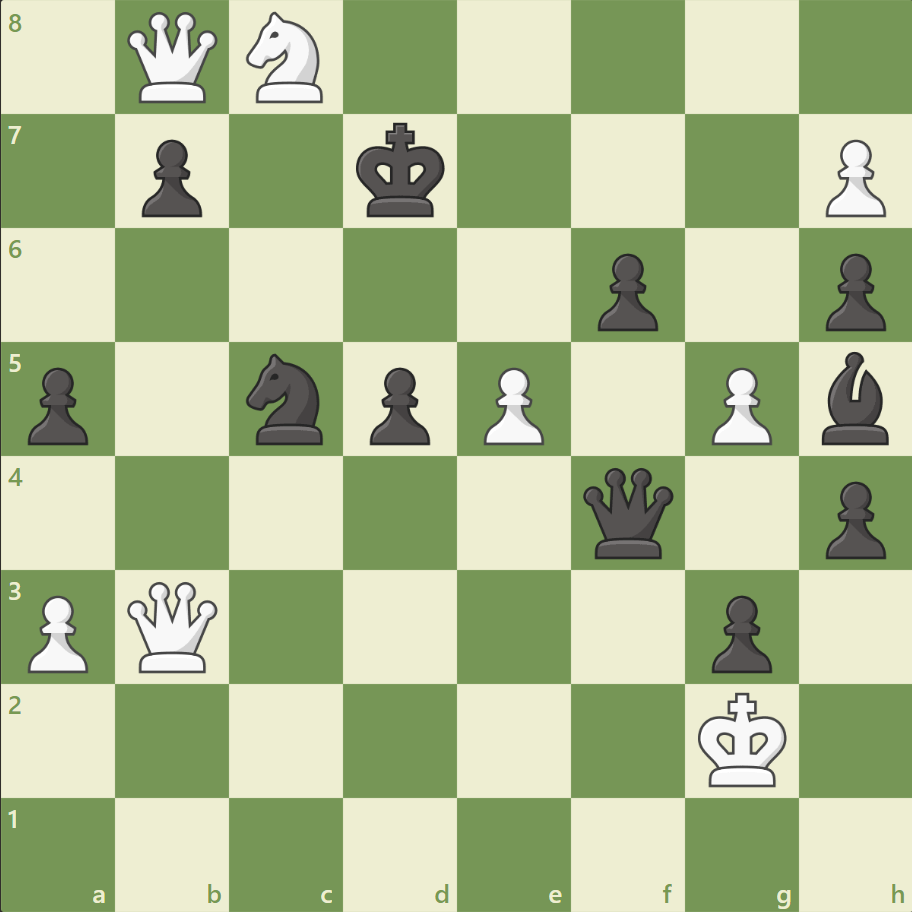K: (692, 685, 792, 793)
N: (238, 7, 335, 110)
P: (474, 359, 549, 450), (701, 359, 776, 450), (20, 586, 95, 677), (815, 132, 889, 223)
Q: (124, 576, 223, 676), (124, 9, 223, 108)
b: (812, 347, 896, 449)
k: (351, 117, 451, 225)
n: (238, 348, 335, 450)
p: (133, 132, 208, 223), (20, 359, 95, 450), (701, 586, 776, 677), (588, 246, 662, 337), (815, 246, 889, 337), (361, 359, 435, 450), (815, 473, 889, 564)
q: (578, 463, 677, 562)
